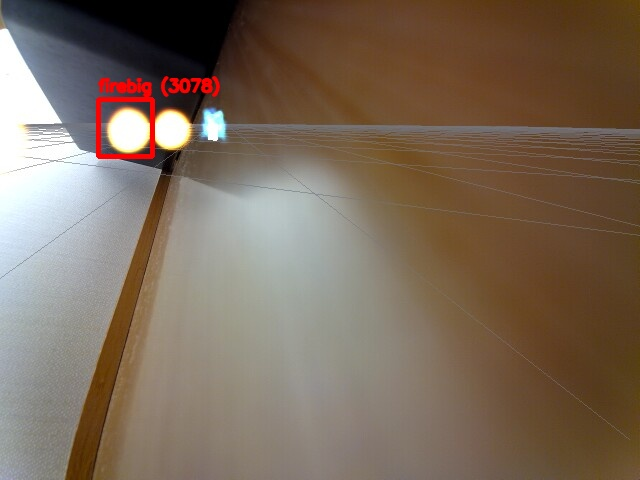firebig: (98, 99, 152, 156)
